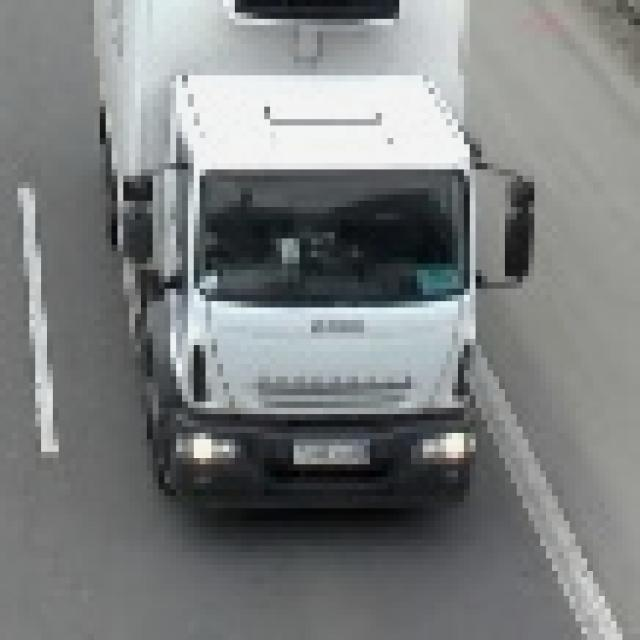truck: (89, 1, 530, 509)
